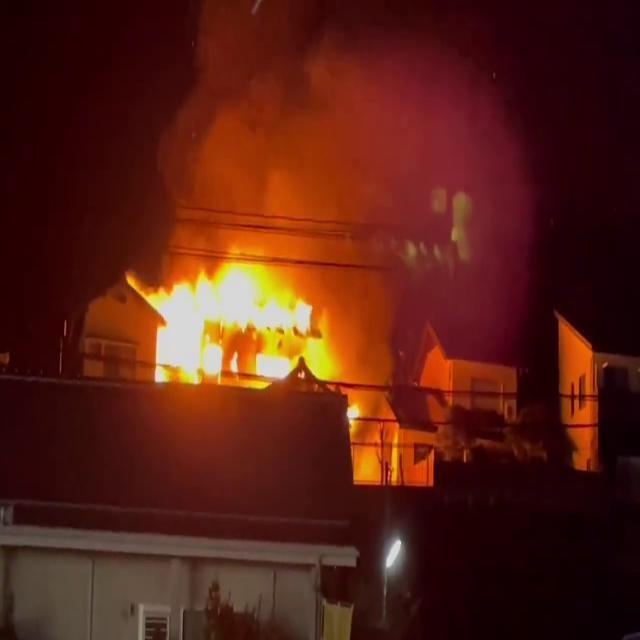Fire: (142, 243, 336, 389)
Smoke: (148, 1, 536, 287)
